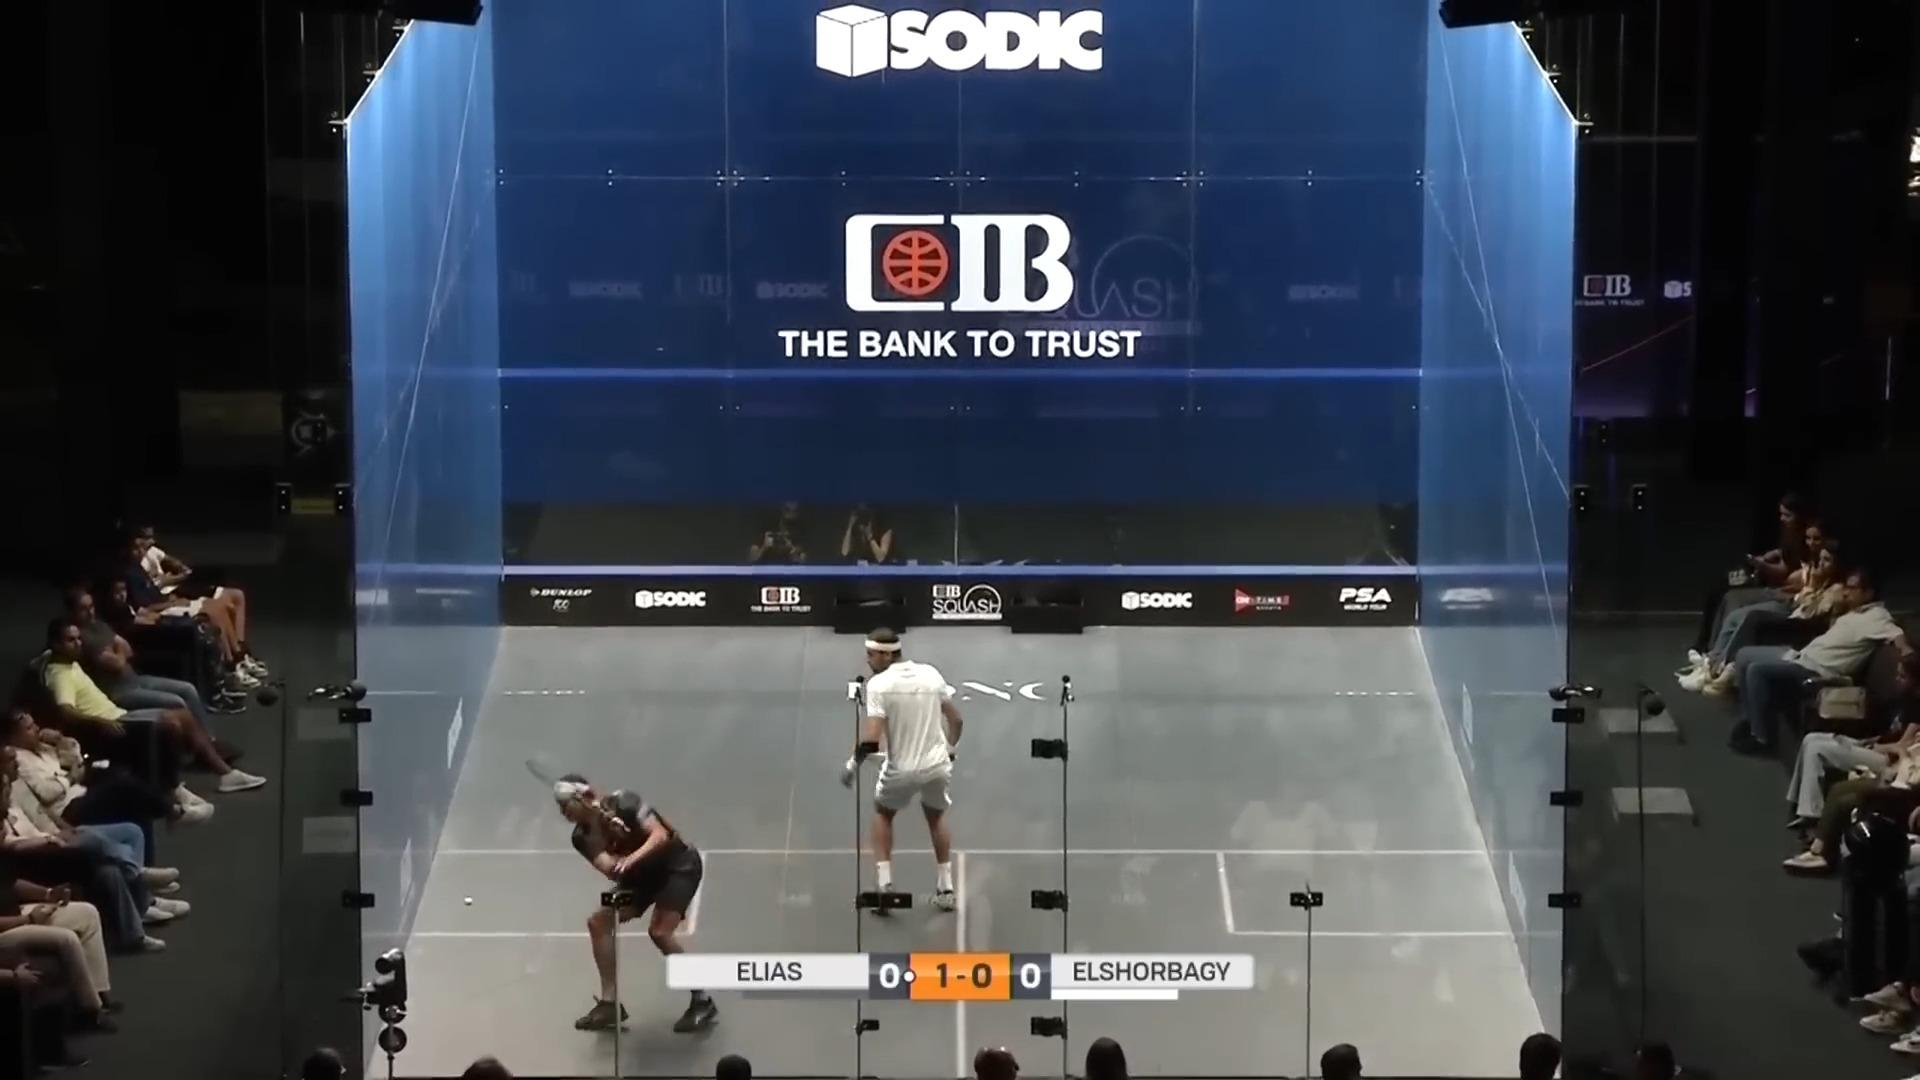Squash-Ball: (454, 884, 487, 916)
